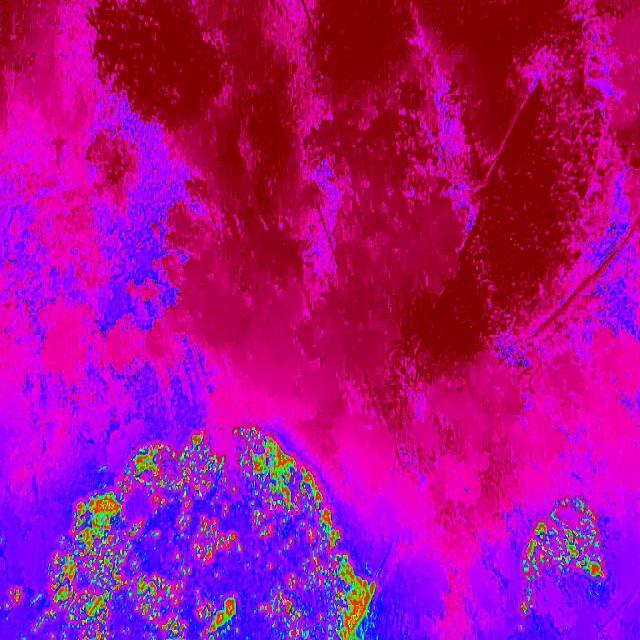fire: (32, 552, 380, 640), (68, 493, 344, 552), (118, 443, 322, 492), (514, 498, 608, 581), (187, 421, 278, 443), (522, 578, 534, 618), (5, 588, 22, 612)
